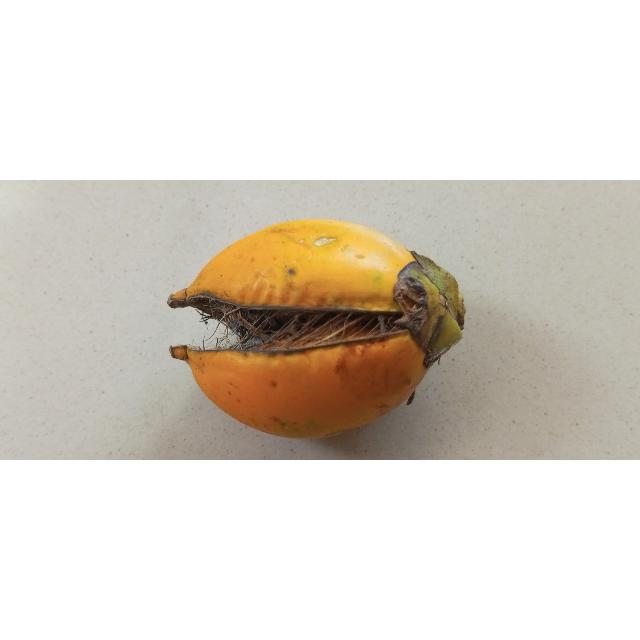damaged: (167, 220, 467, 441)
